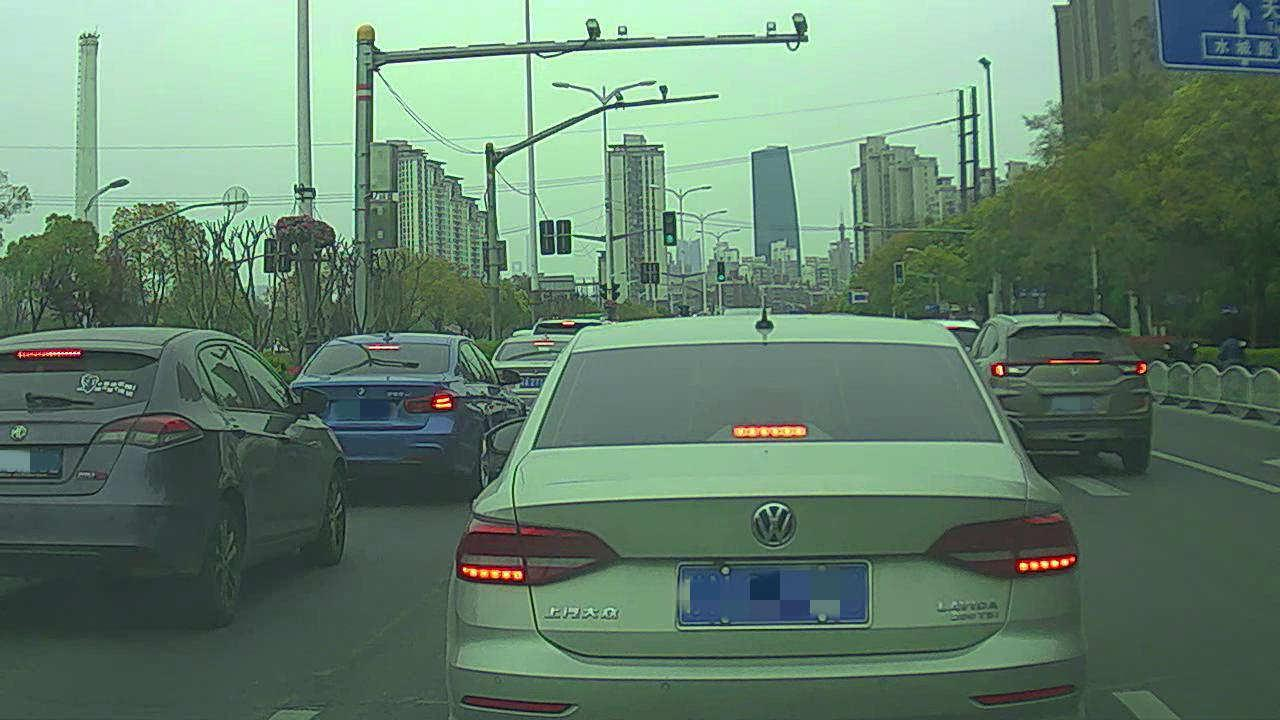traffic_light: (661, 210, 678, 246), (716, 256, 729, 282), (893, 258, 905, 285)
